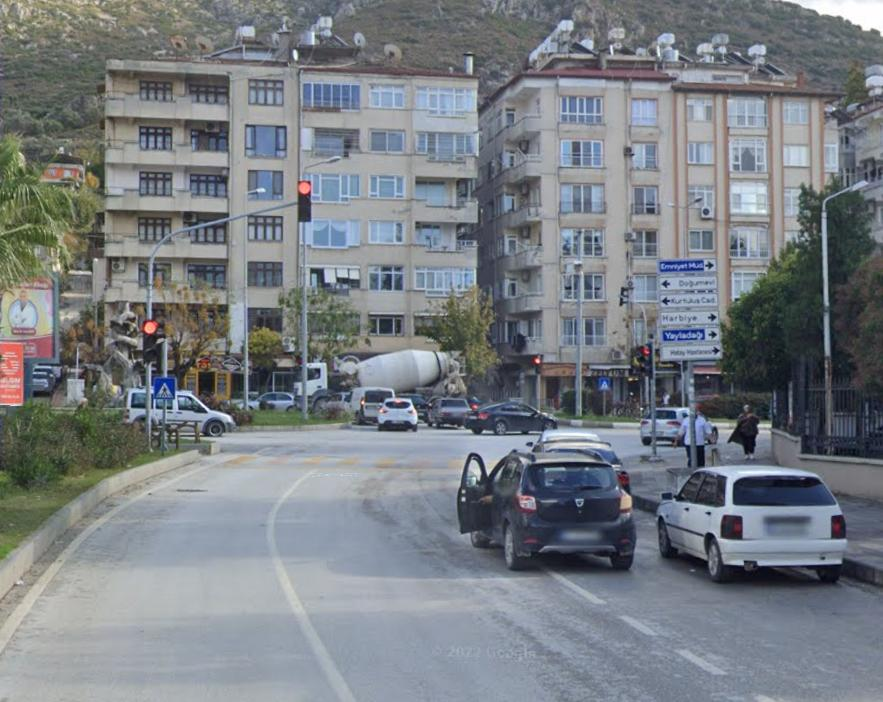redlight: (144, 322, 159, 366), (297, 179, 310, 222), (639, 342, 652, 381), (535, 354, 542, 377)
